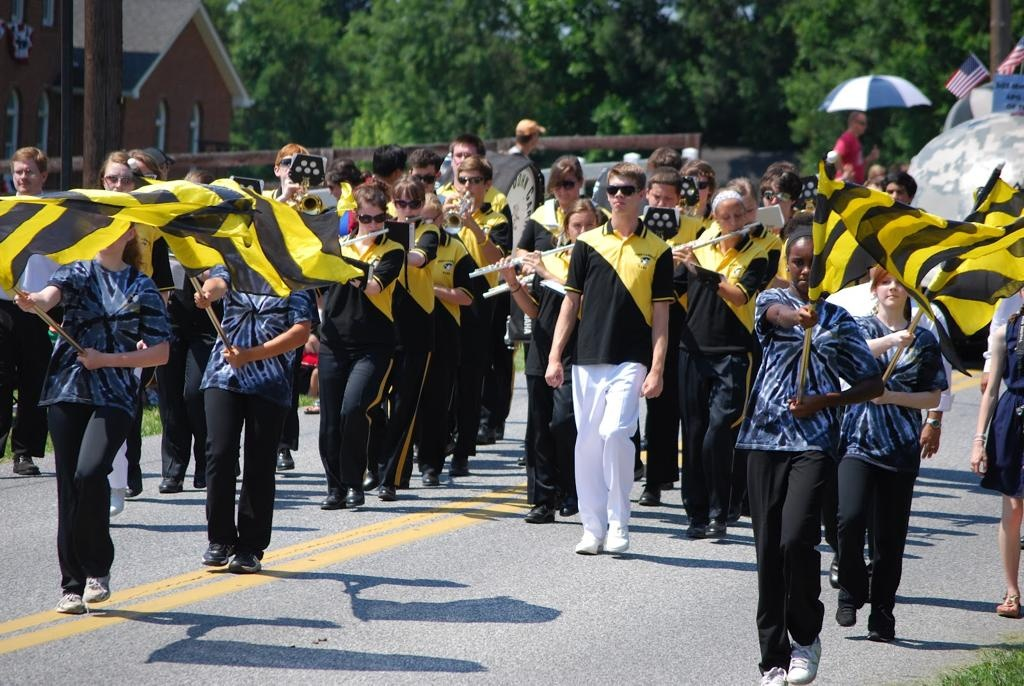human_face: (788, 244, 824, 290), (103, 163, 135, 203), (876, 268, 906, 306), (608, 176, 638, 212), (716, 202, 744, 238), (279, 154, 307, 188), (763, 189, 791, 223), (358, 201, 384, 237), (568, 214, 594, 248), (650, 184, 676, 216), (457, 170, 483, 201), (12, 162, 38, 192), (732, 196, 756, 228), (394, 195, 422, 222), (452, 146, 478, 174), (552, 174, 578, 202), (412, 165, 434, 197), (686, 174, 708, 206), (886, 184, 906, 210), (327, 178, 347, 202), (854, 113, 866, 133)
